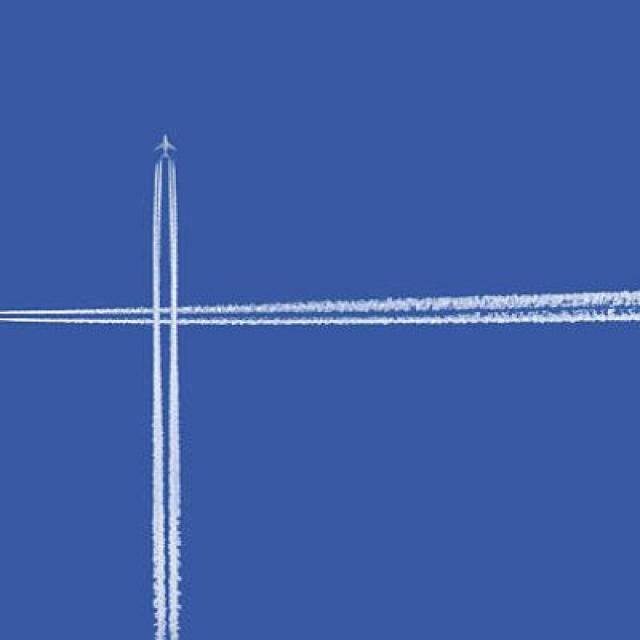Ct: (1, 91, 640, 582)
